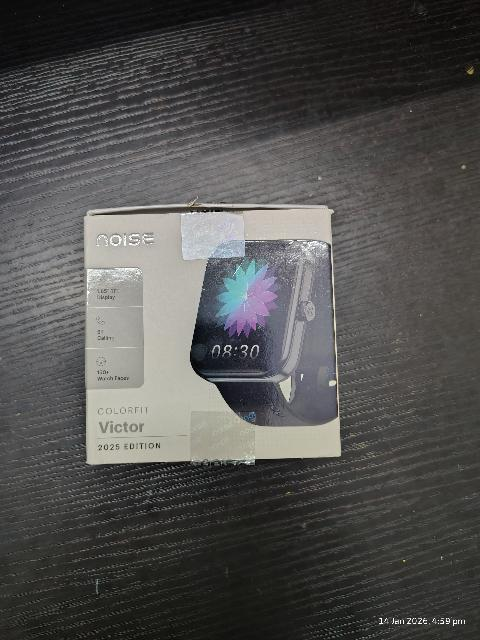noise victor smartwatch: (89, 218, 347, 457)
